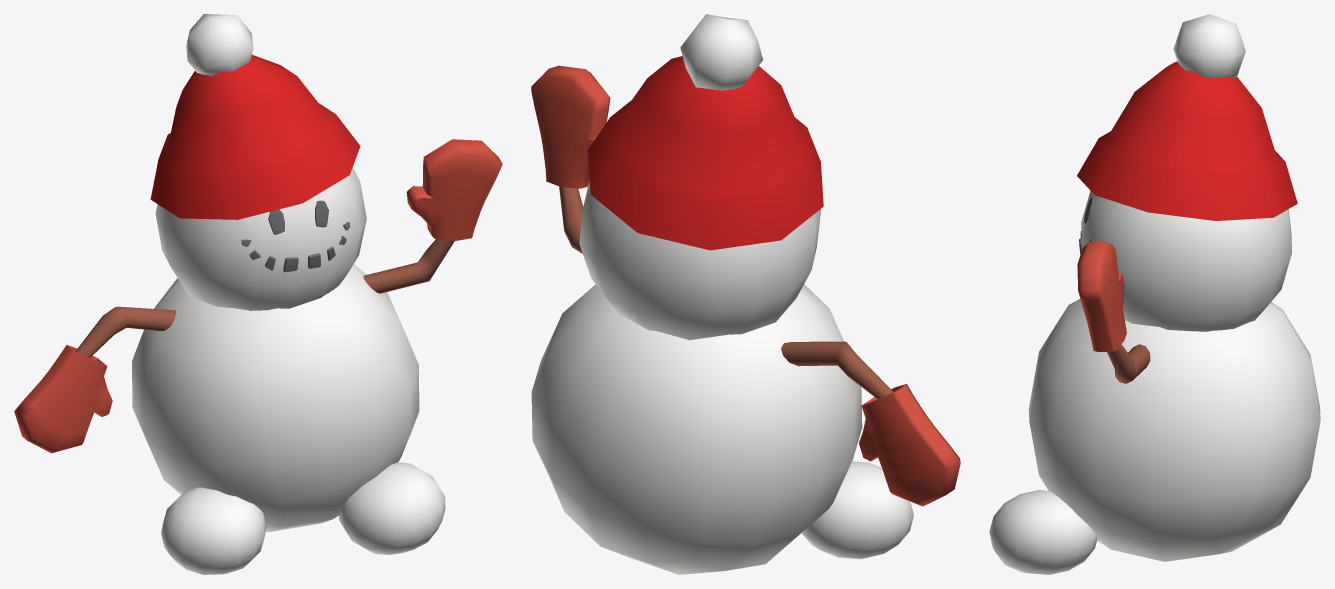
File: Snowman_1.glb
3 views of the same model, side by side, from view 1: azimuth 30°, elevation 25°; view 2: azimuth 150°, elevation 25°; view 3: azimuth 270°, elevation 25° (orthographic). The views are drawn at different scales.
Parts seen in each view (by area): view 1: Snowman_1; view 2: Snowman_1; view 3: Snowman_1.
Boxes of the visible parts, x1,y1,x2,y2 form: Snowman_1: (14, 14, 502, 574); Snowman_1: (531, 14, 960, 574); Snowman_1: (989, 14, 1320, 574).
Size of the model in its own units: 1.08 by 1.2 by 0.7054.
1 material, 1 textured.
